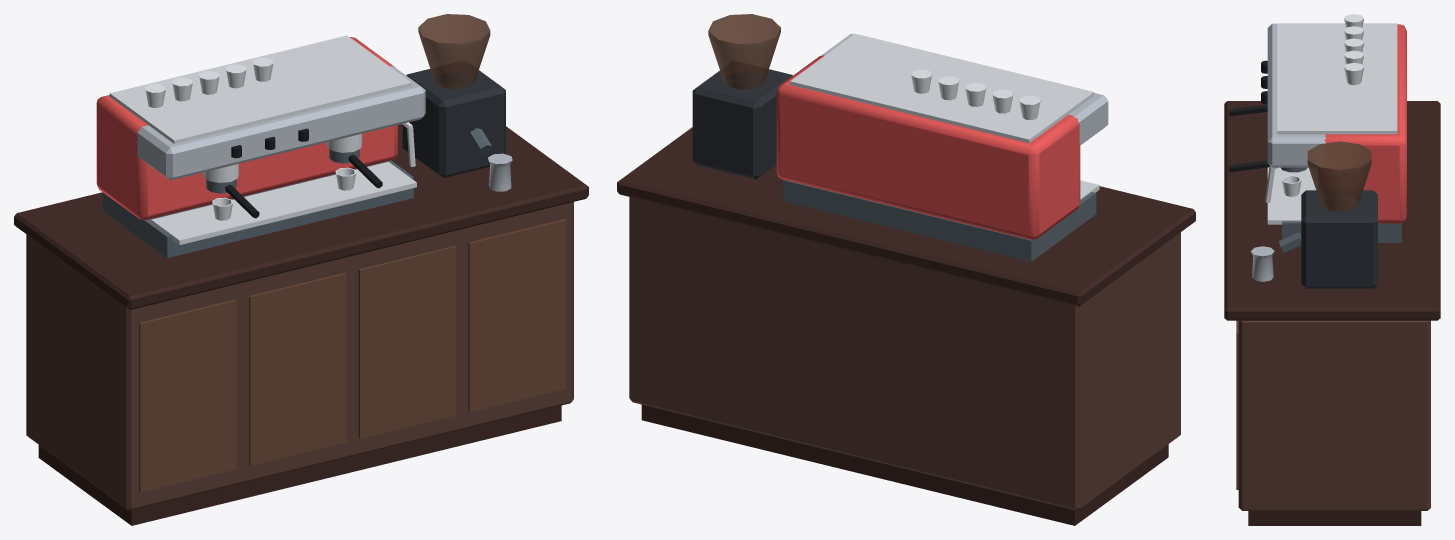
Rendered from coffee_machine.glb.
3 views of the same model, side by side, from view 1: azimuth 30°, elevation 25°; view 2: azimuth 150°, elevation 25°; view 3: azimuth 270°, elevation 25° (orthographic). The views are drawn at different scales.
Parts seen in each view (by area): view 1: coffee_machine; view 2: coffee_machine; view 3: coffee_machine.
Part boxes in pixels (x1=…): coffee_machine: x1=14, y1=14, x2=588, y2=525; coffee_machine: x1=617, y1=14, x2=1195, y2=525; coffee_machine: x1=1224, y1=14, x2=1440, y2=525.
Size of the model in its own units: 2.06 by 1.61 by 0.9.
